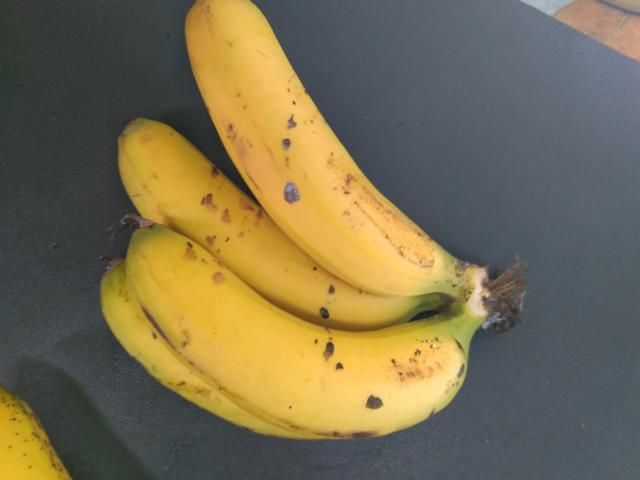ripe: (111, 235, 491, 464), (181, 0, 447, 296), (100, 119, 301, 310)
